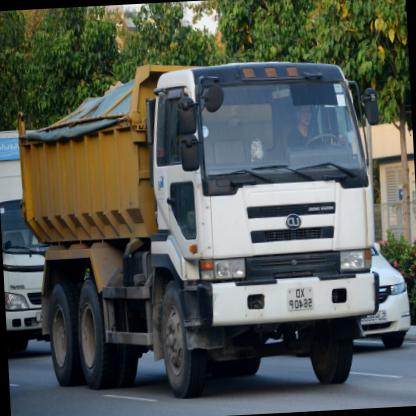truck: (142, 52, 386, 399)
